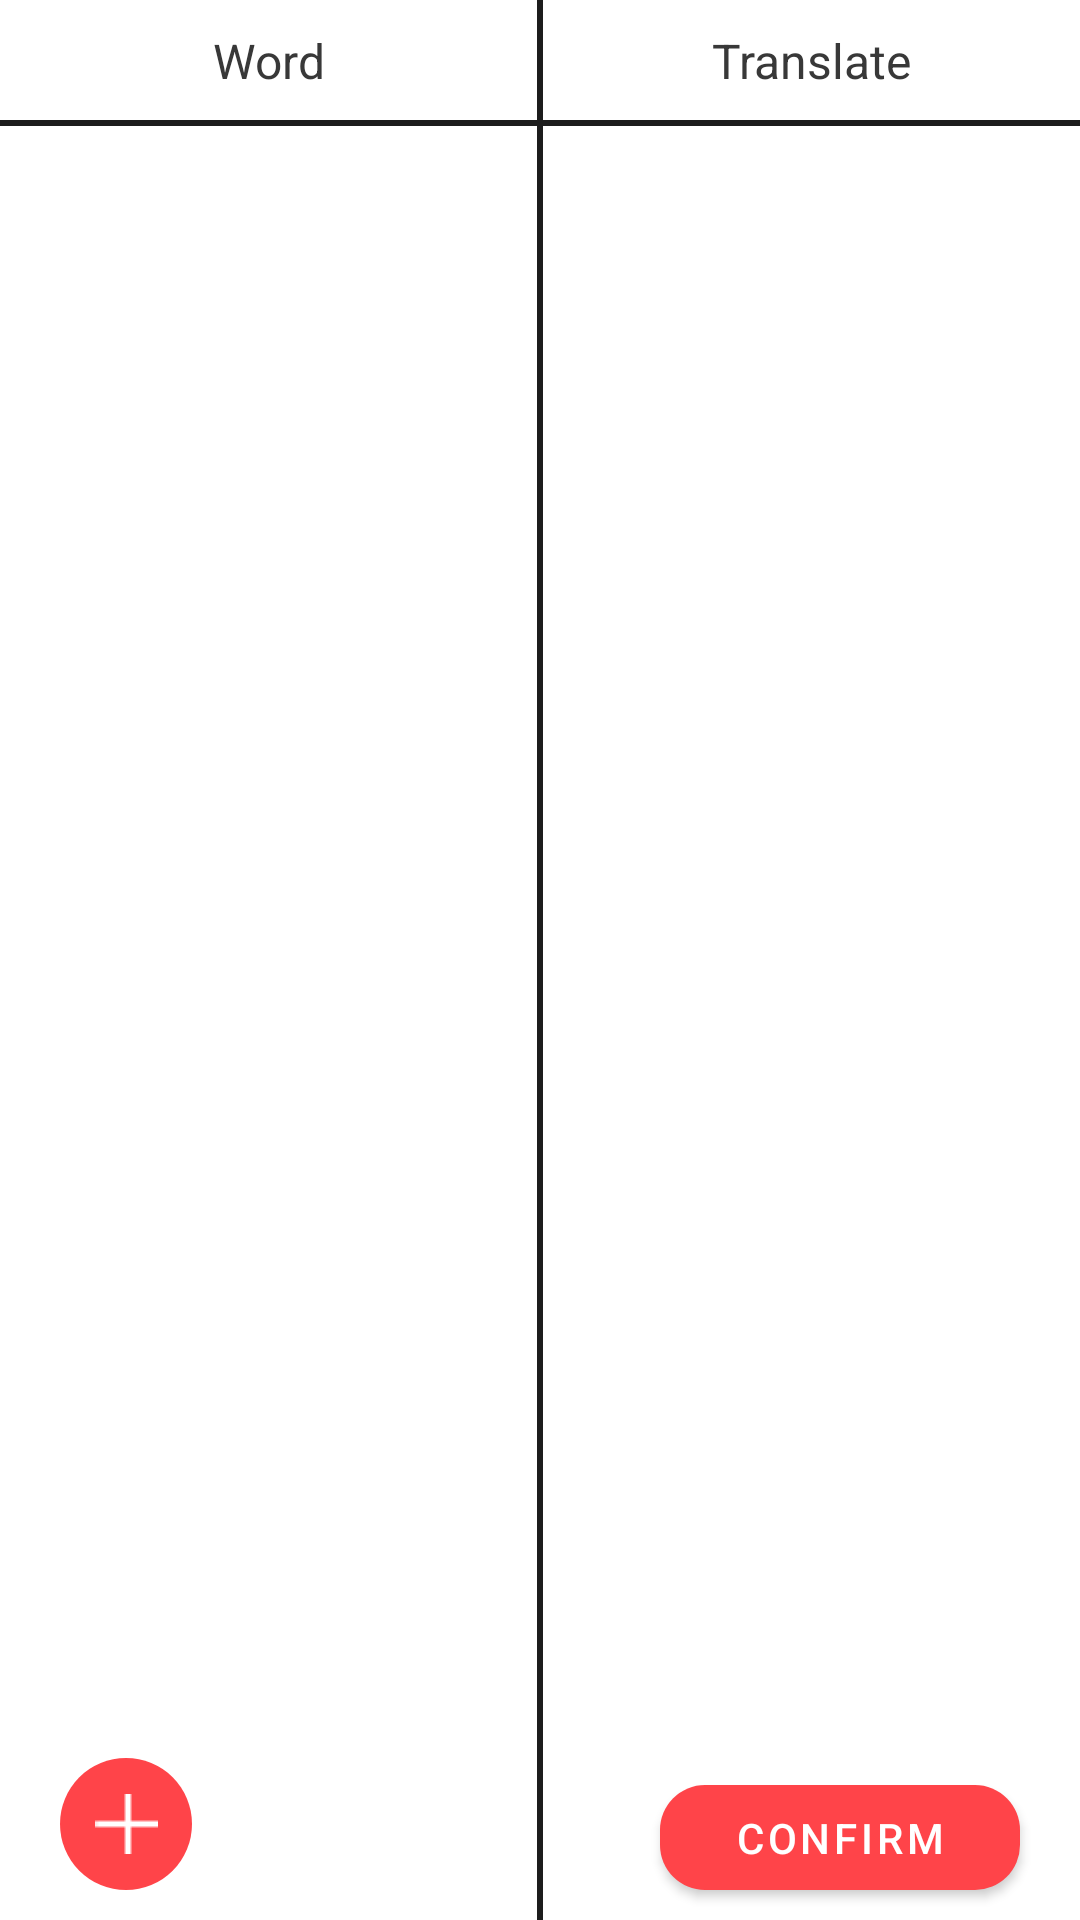

Screen size 1080*1920. Icon name, then its center in pixels as [x,y]:
plus: [126,1824]
